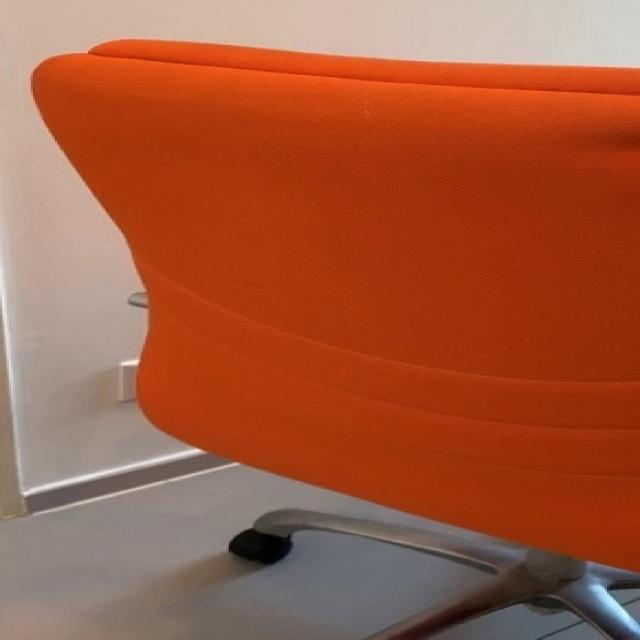chair: (24, 38, 640, 640)
